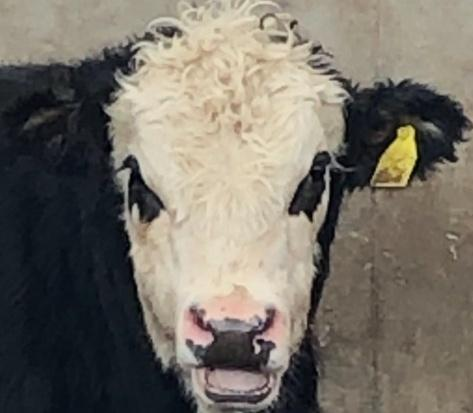muzzles: (170, 281, 299, 411)
